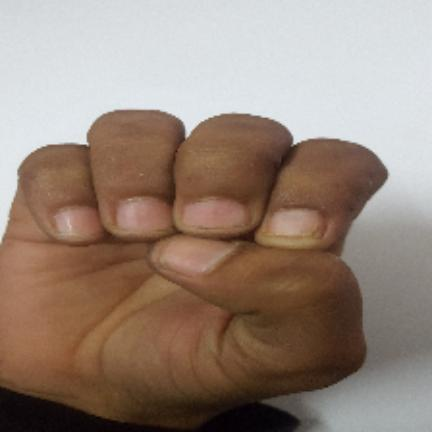Nail: (150, 235, 233, 277), (116, 198, 172, 234), (54, 206, 104, 241), (268, 208, 326, 237), (184, 202, 247, 228)
